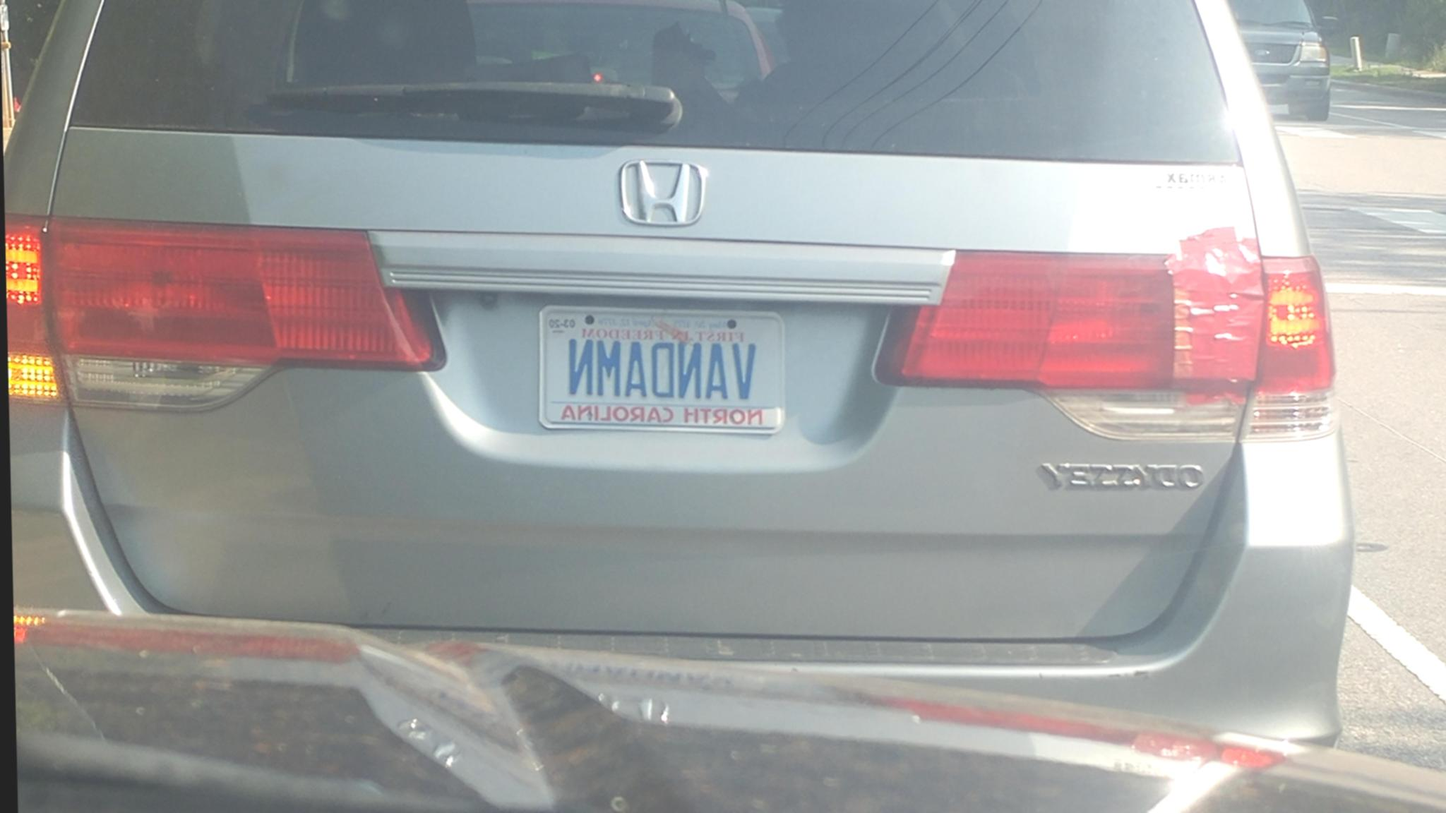License_Plate: (525, 294, 798, 449)
